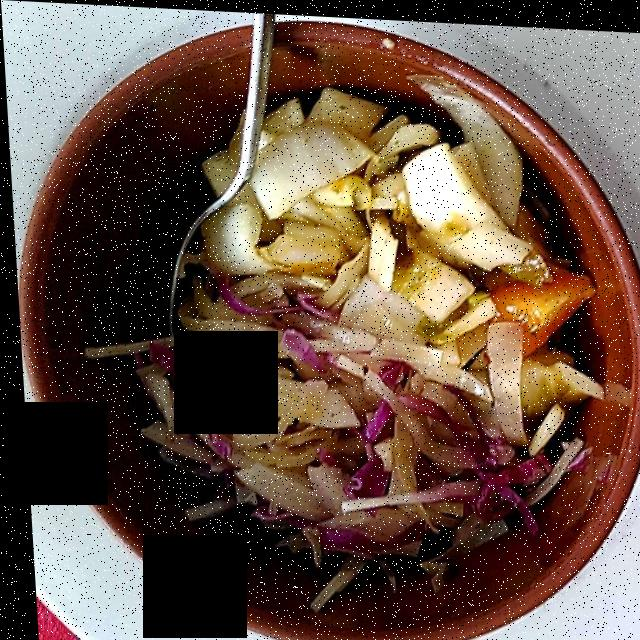mandarine: (487, 261, 584, 348)
red-cabbage: (88, 280, 580, 597)
witloof-chicory: (201, 72, 582, 402)
